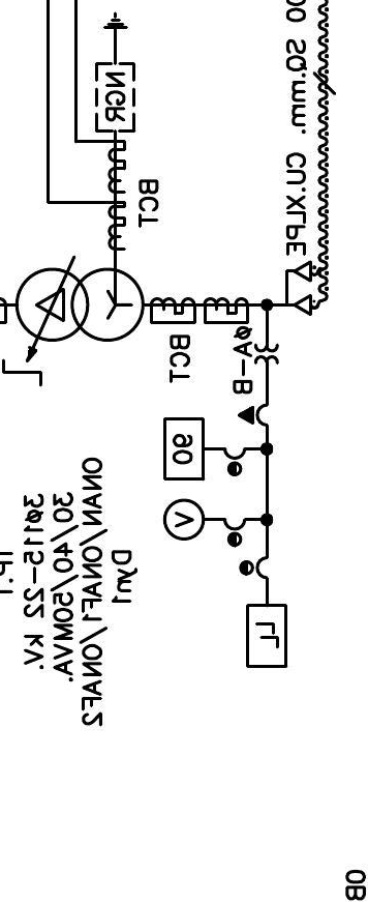11522_tx_dyn1: (15, 267, 145, 343)
LL: (245, 603, 288, 669)
NGR_future: (94, 11, 136, 133)
terminator_double: (285, 260, 313, 316)
v_m: (162, 497, 206, 542)
